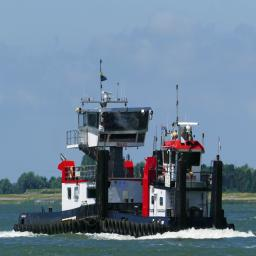tugboat: (12, 91, 240, 242)
